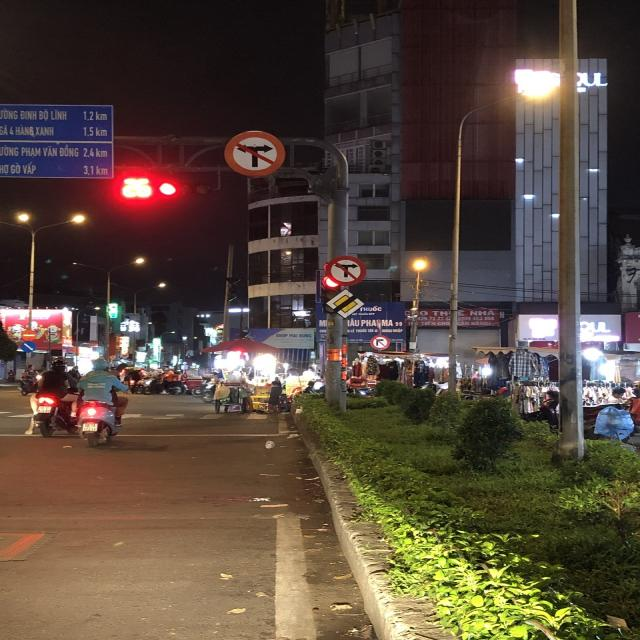Bien bao cam re phai: (366, 334, 392, 351)
